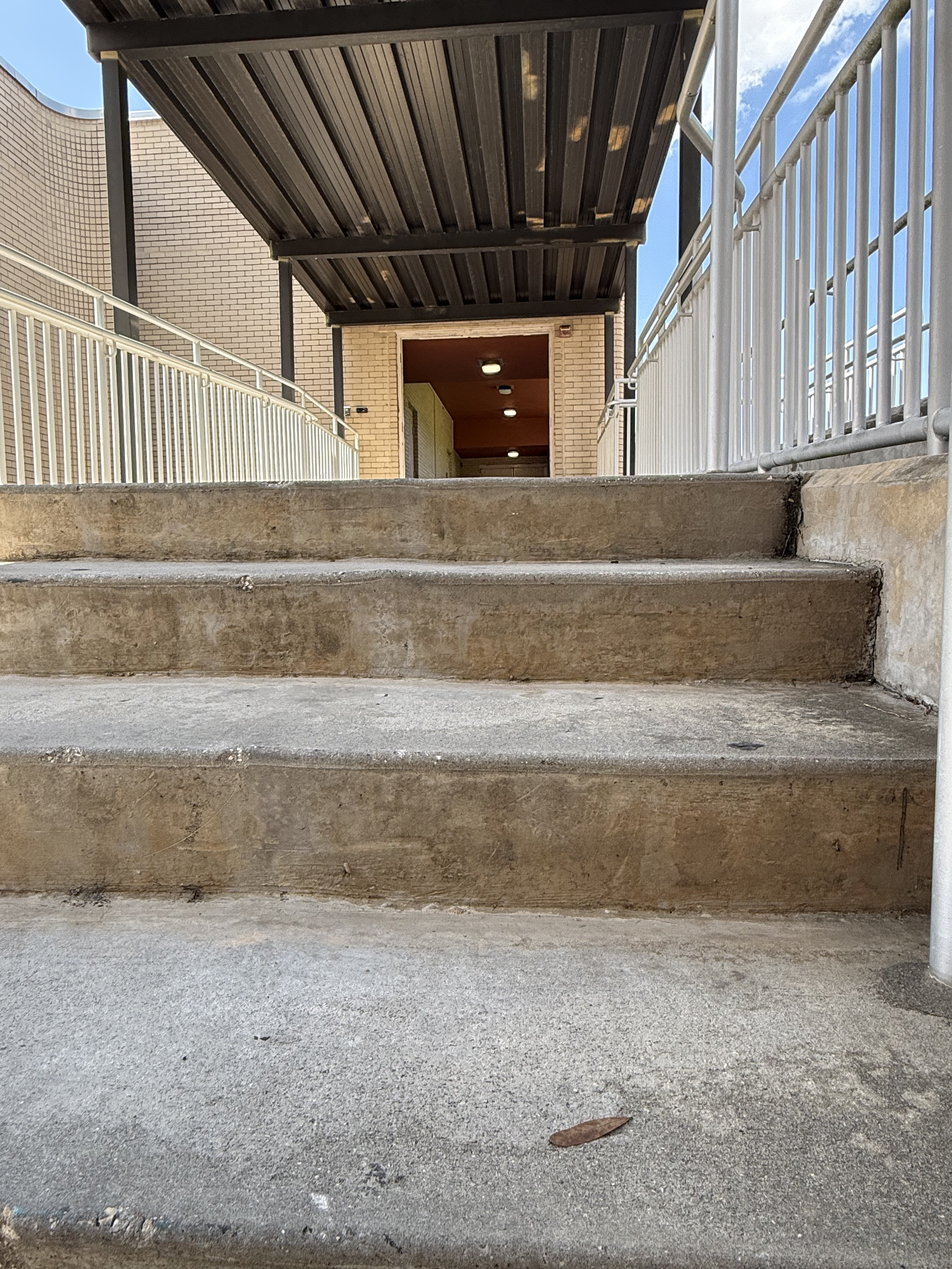stairs: (3, 475, 952, 914)
